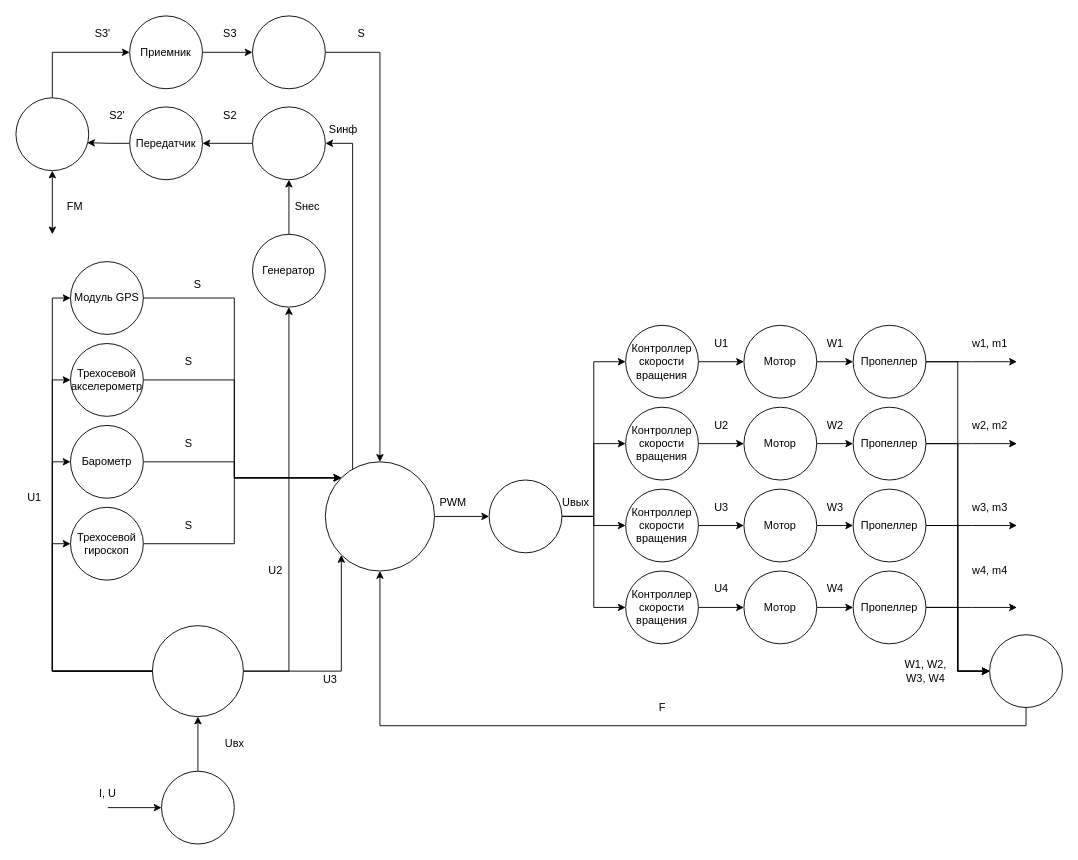
This 1078x860 diagram has some shape labels left out. Each missing label, with the box of its shape:
Антенна: (15, 97, 89, 171)
Блок питания: (161, 770, 234, 844)
Датчик силы тяги: (989, 634, 1062, 708)
Демодулятор: (252, 15, 325, 89)
Драйвер моторов: (488, 479, 562, 553)
Микроконтроллер: (324, 461, 435, 571)
Модулятор: (252, 106, 325, 180)
Распределитель напряжения: (152, 625, 243, 717)
